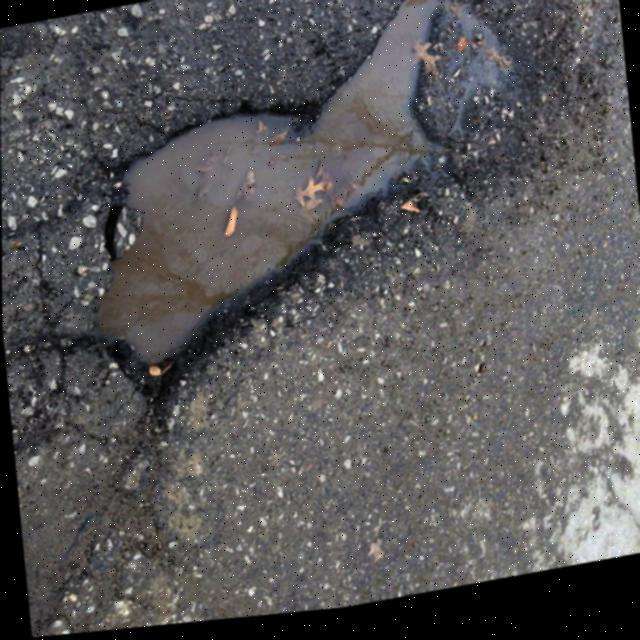pothole: (57, 0, 499, 399)
